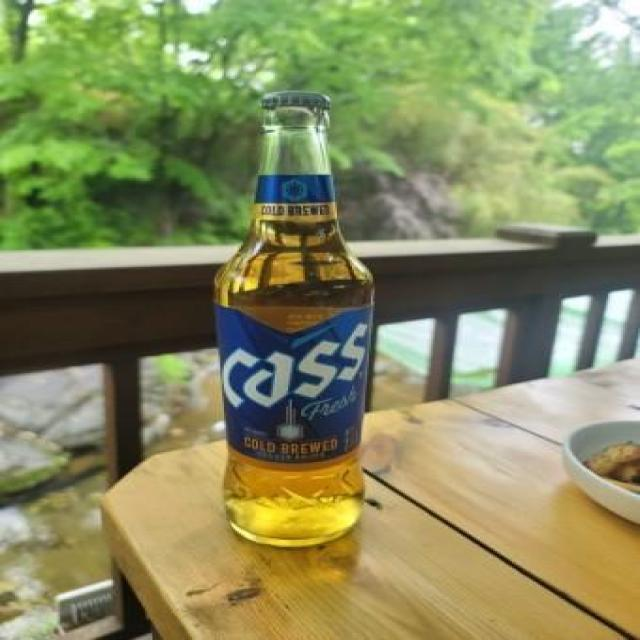beer-bottle: (215, 90, 382, 556)
